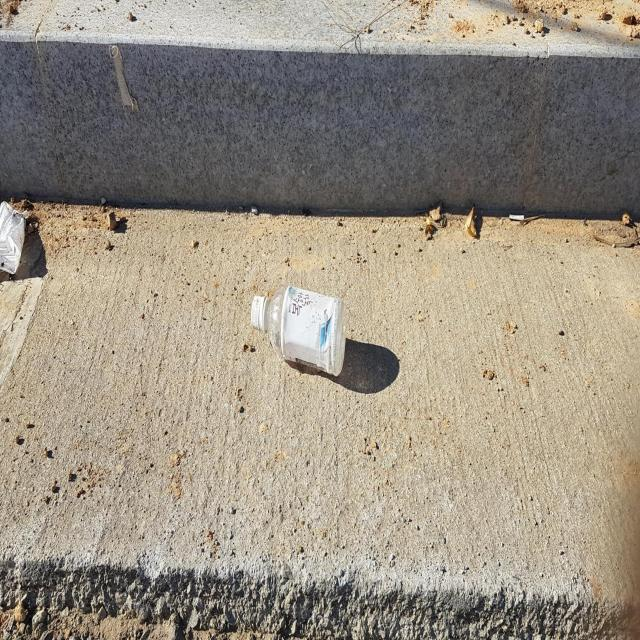plastic: (251, 284, 399, 393)
